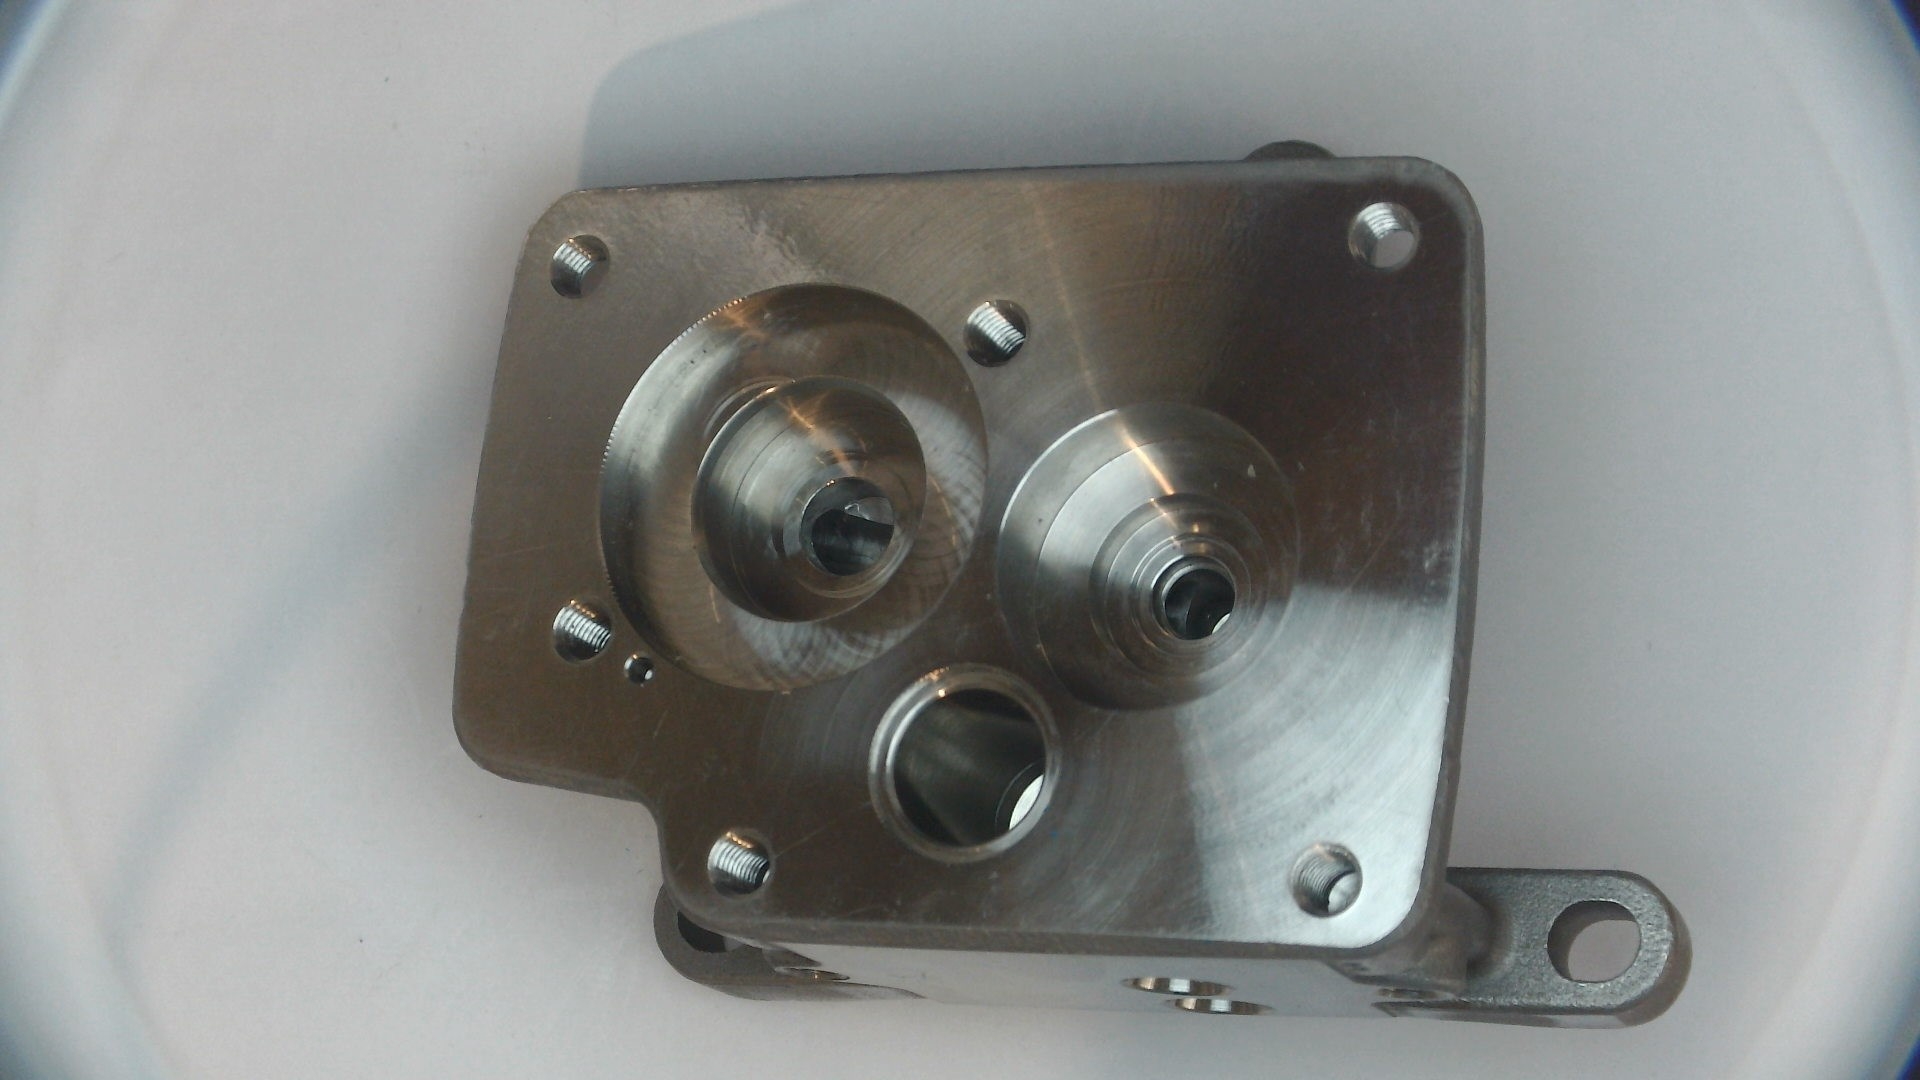thread_presence: (1290, 844, 1361, 915), (1346, 200, 1416, 269), (963, 297, 1027, 365), (705, 829, 771, 895), (547, 232, 609, 299), (553, 596, 613, 659)
